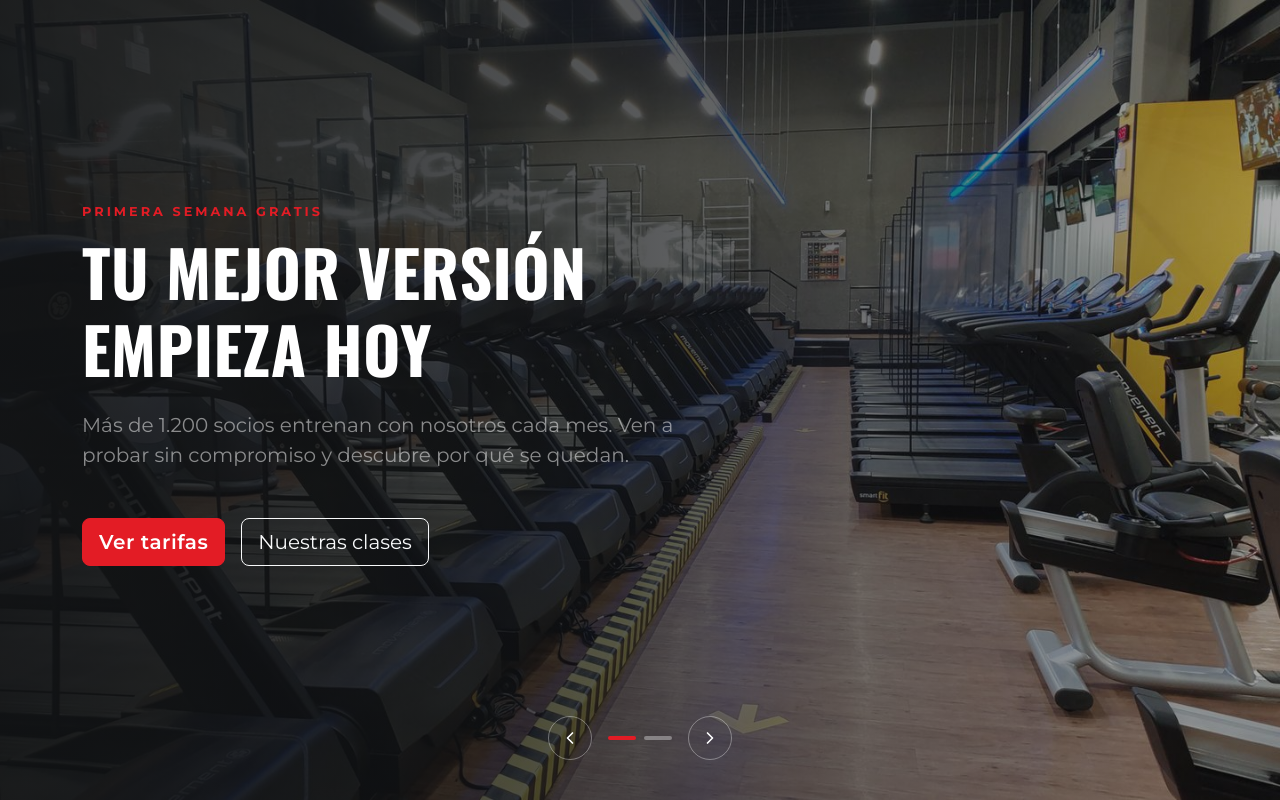
Test case: Hero › avanza al pulsar «Siguiente»
Click the button named "siguiente": (710, 738) [688, 716, 732, 760]
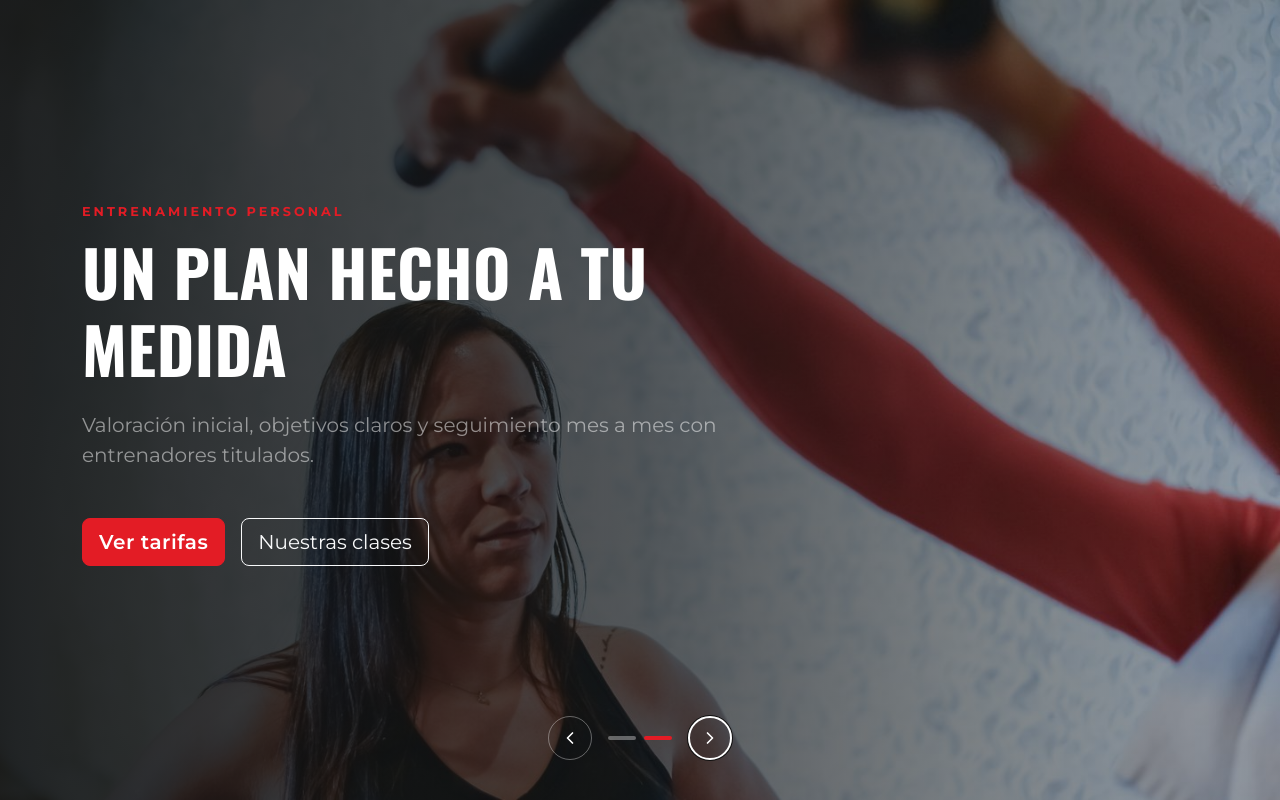
Now the heading "Un plan hecho a tu medida" is shown, box [82, 233, 723, 386]
